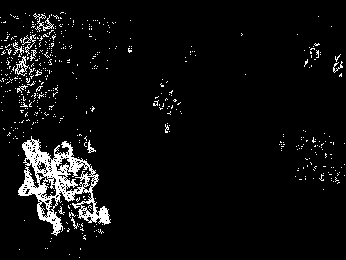person: (49, 141, 112, 238), (17, 139, 71, 233)
